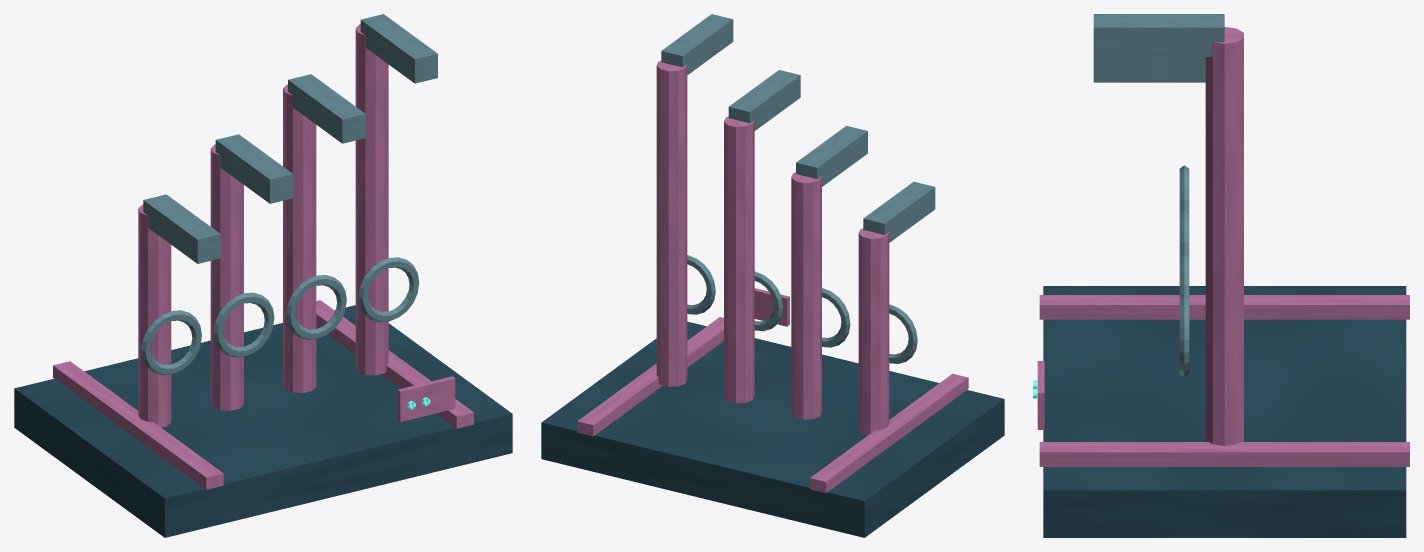
The model's file is atlas100-s064-a03.glb.
3 views of the same model, side by side, from view 1: azimuth 30°, elevation 25°; view 2: azimuth 150°, elevation 25°; view 3: azimuth 270°, elevation 25° (orthographic). The views are drawn at different scales.
Visible parts, largest first — view 1: atlas100-s064-a03:part-000, atlas100-s064-a03:part-012, atlas100-s064-a03:part-009, atlas100-s064-a03:part-006, atlas100-s064-a03:part-003, atlas100-s064-a03:part-001, atlas100-s064-a03:part-008, atlas100-s064-a03:part-005, atlas100-s064-a03:part-011, atlas100-s064-a03:part-014, atlas100-s064-a03:part-002, atlas100-s064-a03:part-015 (+4 smaller); view 2: atlas100-s064-a03:part-000, atlas100-s064-a03:part-012, atlas100-s064-a03:part-009, atlas100-s064-a03:part-006, atlas100-s064-a03:part-003, atlas100-s064-a03:part-001, atlas100-s064-a03:part-002, atlas100-s064-a03:part-005, atlas100-s064-a03:part-014, atlas100-s064-a03:part-011, atlas100-s064-a03:part-008, atlas100-s064-a03:part-015 (+4 smaller); view 3: atlas100-s064-a03:part-000, atlas100-s064-a03:part-012, atlas100-s064-a03:part-002, atlas100-s064-a03:part-001, atlas100-s064-a03:part-014, atlas100-s064-a03:part-005, atlas100-s064-a03:part-008, atlas100-s064-a03:part-011, atlas100-s064-a03:part-013, atlas100-s064-a03:part-015, atlas100-s064-a03:part-007, atlas100-s064-a03:part-004 (+1 smaller).
Boxes of the visible parts, x1,y1,x2,y2 form: atlas100-s064-a03:part-000: [14, 305, 512, 537]; atlas100-s064-a03:part-012: [355, 24, 388, 375]; atlas100-s064-a03:part-009: [283, 84, 316, 392]; atlas100-s064-a03:part-006: [210, 144, 243, 410]; atlas100-s064-a03:part-003: [138, 204, 171, 427]; atlas100-s064-a03:part-001: [53, 361, 223, 489]; atlas100-s064-a03:part-008: [215, 134, 293, 203]; atlas100-s064-a03:part-005: [143, 194, 220, 263]; atlas100-s064-a03:part-011: [288, 74, 365, 143]; atlas100-s064-a03:part-014: [360, 14, 437, 83]; atlas100-s064-a03:part-002: [316, 300, 473, 428]; atlas100-s064-a03:part-015: [397, 376, 455, 421]; atlas100-s064-a03:part-000: [541, 321, 1004, 537]; atlas100-s064-a03:part-012: [656, 61, 687, 386]; atlas100-s064-a03:part-009: [724, 116, 754, 403]; atlas100-s064-a03:part-006: [791, 172, 821, 419]; atlas100-s064-a03:part-003: [858, 228, 889, 435]; atlas100-s064-a03:part-001: [810, 373, 968, 493]; atlas100-s064-a03:part-002: [577, 317, 723, 436]; atlas100-s064-a03:part-005: [863, 181, 935, 242]; atlas100-s064-a03:part-014: [661, 14, 733, 74]; atlas100-s064-a03:part-011: [728, 70, 800, 130]; atlas100-s064-a03:part-008: [796, 126, 867, 186]; atlas100-s064-a03:part-015: [754, 288, 789, 326]; atlas100-s064-a03:part-000: [1043, 286, 1406, 537]; atlas100-s064-a03:part-012: [1205, 27, 1243, 445]; atlas100-s064-a03:part-002: [1039, 442, 1409, 466]; atlas100-s064-a03:part-001: [1039, 295, 1409, 319]; atlas100-s064-a03:part-014: [1093, 14, 1224, 56]; atlas100-s064-a03:part-005: [1093, 74, 1205, 82]; atlas100-s064-a03:part-008: [1093, 65, 1205, 73]; atlas100-s064-a03:part-011: [1093, 57, 1205, 65]; atlas100-s064-a03:part-013: [1179, 293, 1189, 376]; atlas100-s064-a03:part-015: [1037, 361, 1044, 429]; atlas100-s064-a03:part-007: [1179, 208, 1189, 253]; atlas100-s064-a03:part-004: [1179, 165, 1189, 210].
Size of the model in its own units: 2.4 by 2.62 by 1.87.
Materials: 4 (4 with a texture image).
